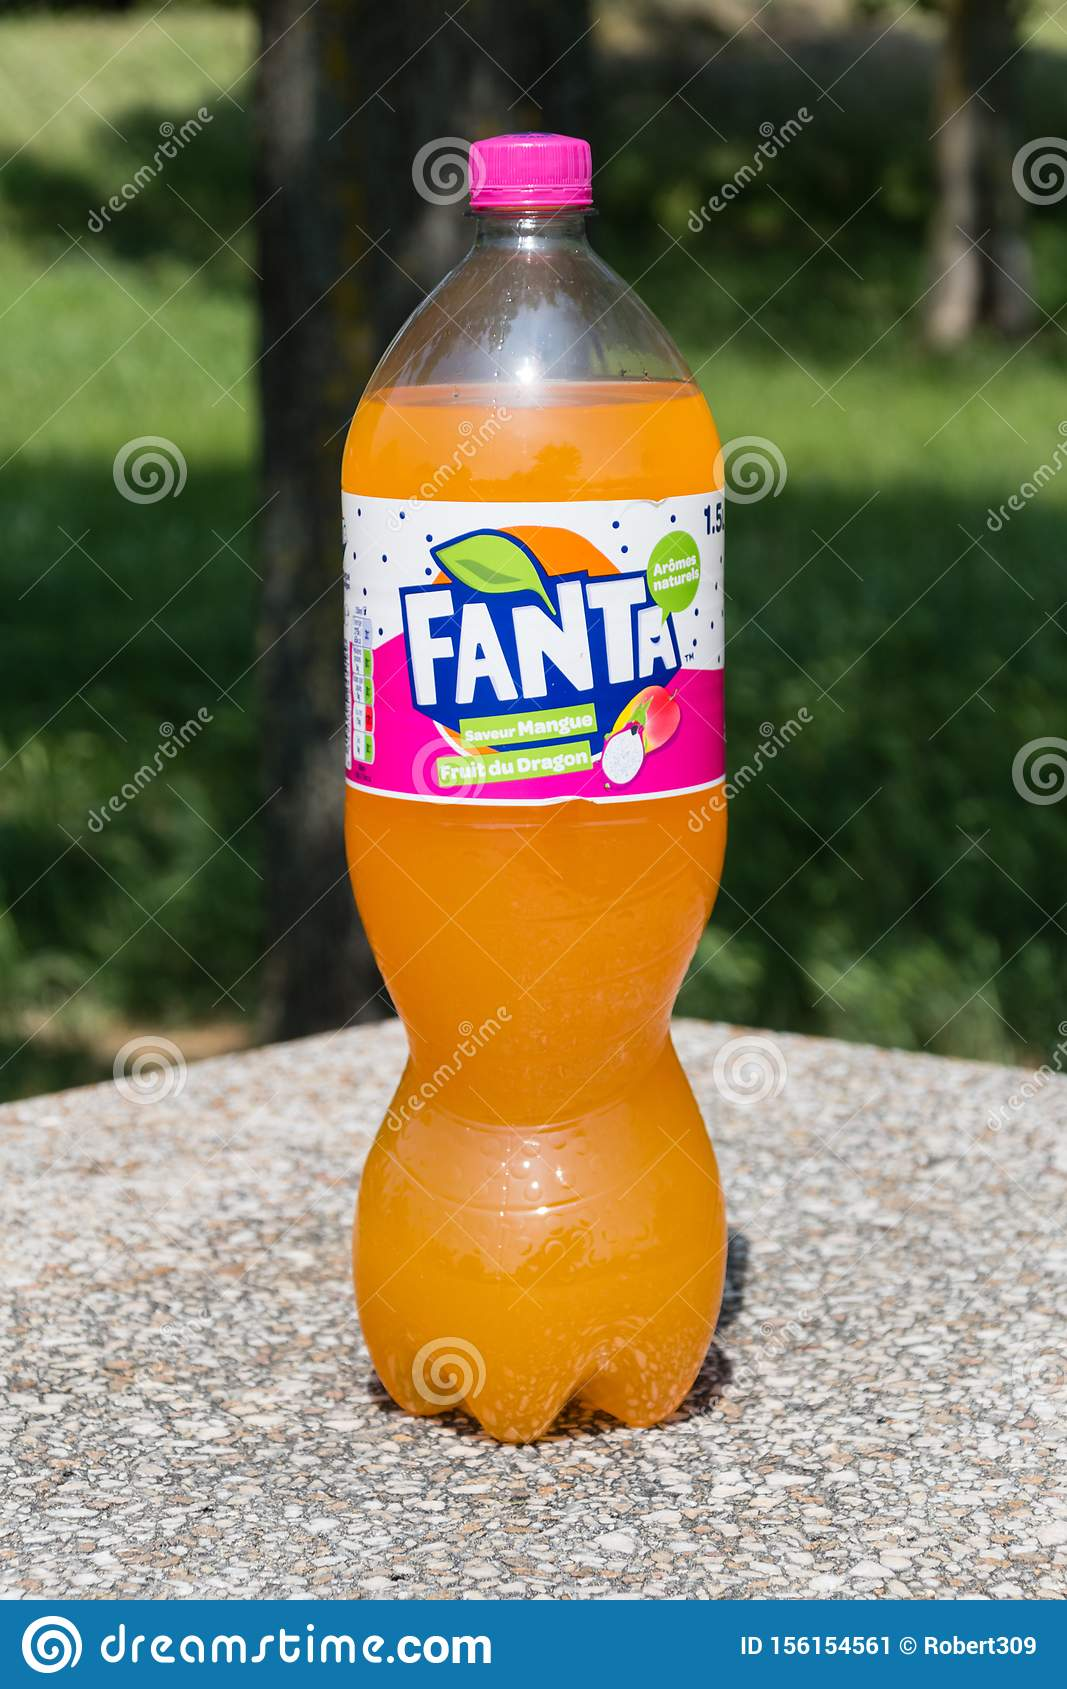Fanta: (278, 183, 766, 1442)
